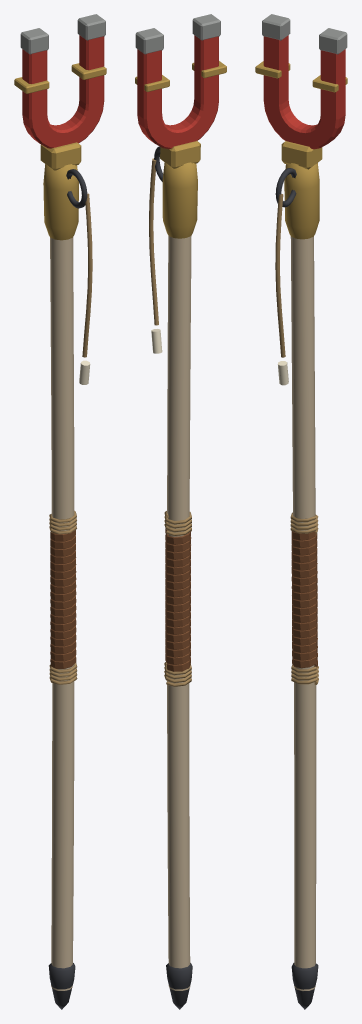
The model's file is tool_magnetpole.fbx.
3 views of the same model, side by side, from view 1: azimuth 30°, elevation 25°; view 2: azimuth 210°, elevation 25°; view 3: azimuth 330°, elevation 25° (orthographic).
Visible parts, largest first — view 1: Tool_MagnetPole_Pole, Tool_MagnetPole_Magnet, Tool_MagnetPole_Wrap, Tool_MagnetPole_Cradle, Tool_MagnetPole_PoleTips, Tool_MagnetPole_Tether, Tool_MagnetPole_Ferrule; view 2: Tool_MagnetPole_Pole, Tool_MagnetPole_Magnet, Tool_MagnetPole_Wrap, Tool_MagnetPole_Cradle, Tool_MagnetPole_PoleTips, Tool_MagnetPole_Tether, Tool_MagnetPole_Ferrule; view 3: Tool_MagnetPole_Pole, Tool_MagnetPole_Magnet, Tool_MagnetPole_Wrap, Tool_MagnetPole_Cradle, Tool_MagnetPole_PoleTips, Tool_MagnetPole_Tether, Tool_MagnetPole_Ferrule.
Part boxes in pixels (left/top/right/bottom): Tool_MagnetPole_Pole: left=50, top=237, right=74, bottom=990; Tool_MagnetPole_Magnet: left=22, top=35, right=104, bottom=148; Tool_MagnetPole_Wrap: left=49, top=510, right=77, bottom=684; Tool_MagnetPole_Cradle: left=14, top=63, right=106, bottom=240; Tool_MagnetPole_PoleTips: left=20, top=14, right=105, bottom=54; Tool_MagnetPole_Tether: left=79, top=193, right=92, bottom=384; Tool_MagnetPole_Ferrule: left=48, top=963, right=75, bottom=1009; Tool_MagnetPole_Pole: left=167, top=235, right=191, bottom=990; Tool_MagnetPole_Magnet: left=137, top=35, right=218, bottom=149; Tool_MagnetPole_Wrap: left=164, top=511, right=191, bottom=686; Tool_MagnetPole_Cradle: left=135, top=61, right=226, bottom=238; Tool_MagnetPole_PoleTips: left=135, top=14, right=220, bottom=54; Tool_MagnetPole_Tether: left=149, top=158, right=162, bottom=353; Tool_MagnetPole_Ferrule: left=166, top=963, right=192, bottom=1009; Tool_MagnetPole_Pole: left=290, top=236, right=316, bottom=990; Tool_MagnetPole_Magnet: left=263, top=35, right=345, bottom=149; Tool_MagnetPole_Wrap: left=290, top=512, right=318, bottom=684; Tool_MagnetPole_Cradle: left=255, top=61, right=347, bottom=239; Tool_MagnetPole_PoleTips: left=262, top=14, right=347, bottom=54; Tool_MagnetPole_Tether: left=275, top=194, right=288, bottom=385; Tool_MagnetPole_Ferrule: left=291, top=963, right=318, bottom=1009.
Bounding box in the file's own units: 16.56 × 190 × 12.84.
